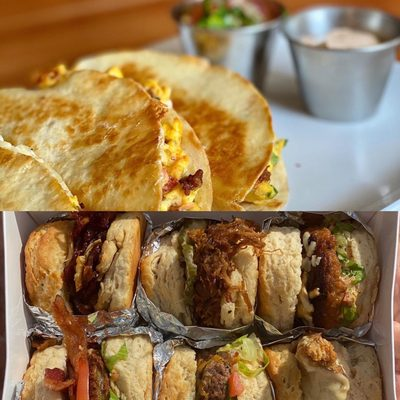pizza: (281, 4, 400, 121)
soup: (76, 49, 290, 209), (25, 213, 143, 316)
sushi: (281, 3, 400, 122), (176, 0, 286, 79)
